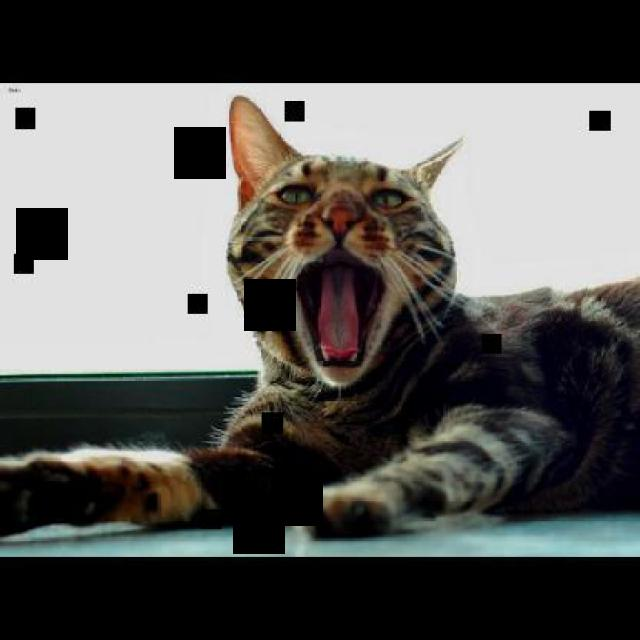unauthorized: (0, 94, 638, 543)
